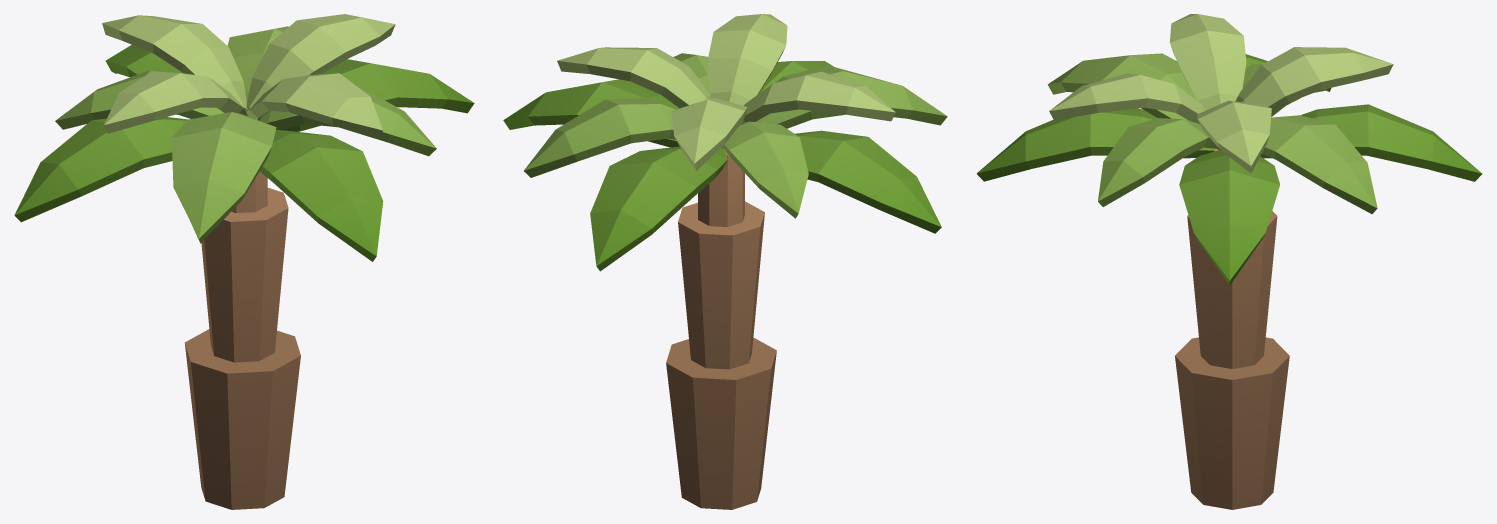
The model's file is palm-tree-small-2.glb.
The picture shows the model from 3 angles, left to right: view 1: azimuth 30°, elevation 25°; view 2: azimuth 150°, elevation 25°; view 3: azimuth 270°, elevation 25°; orthographic projection. The views are drawn at different scales.
Visible parts, largest first — view 1: palm tree small 2; view 2: palm tree small 2; view 3: palm tree small 2.
Boxes of the visible parts, box(x1,y1,x2,y2) form: palm tree small 2: box(14, 14, 474, 509); palm tree small 2: box(503, 14, 947, 509); palm tree small 2: box(976, 14, 1482, 509).
Bounding box in the file's own units: 3.64 × 3.38 × 3.63.
Materials: 1 (1 with a texture image).
